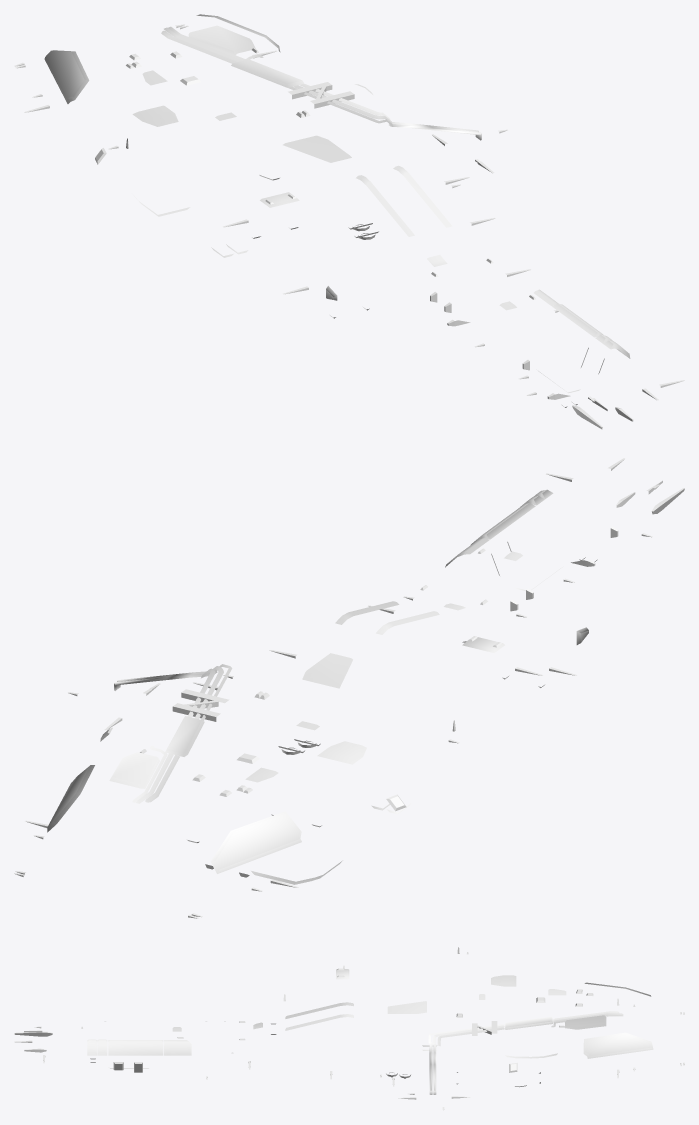
Rendered from hgn_flagship_carrier_03.glb.
3 renders of one model, top to bottom at view 1: azimuth 30°, elevation 25°; view 2: azimuth 150°, elevation 25°; view 3: azimuth 270°, elevation 25°, orthographic. The views are drawn at different scales.
Visible parts, largest first — view 1: hgn_flagships_carrier_03_LOD0; view 2: hgn_flagships_carrier_03_LOD0; view 3: hgn_flagships_carrier_03_LOD0.
Part boxes in pixels (bbox=[...]): hgn_flagships_carrier_03_LOD0: bbox=[14, 14, 684, 429]; hgn_flagships_carrier_03_LOD0: bbox=[14, 458, 684, 918]; hgn_flagships_carrier_03_LOD0: bbox=[14, 947, 684, 1110].
Size of what is drawn, in the model's own units: 7.17 by 2.35 by 16.94.
Materials: 1 (1 with a texture image).
